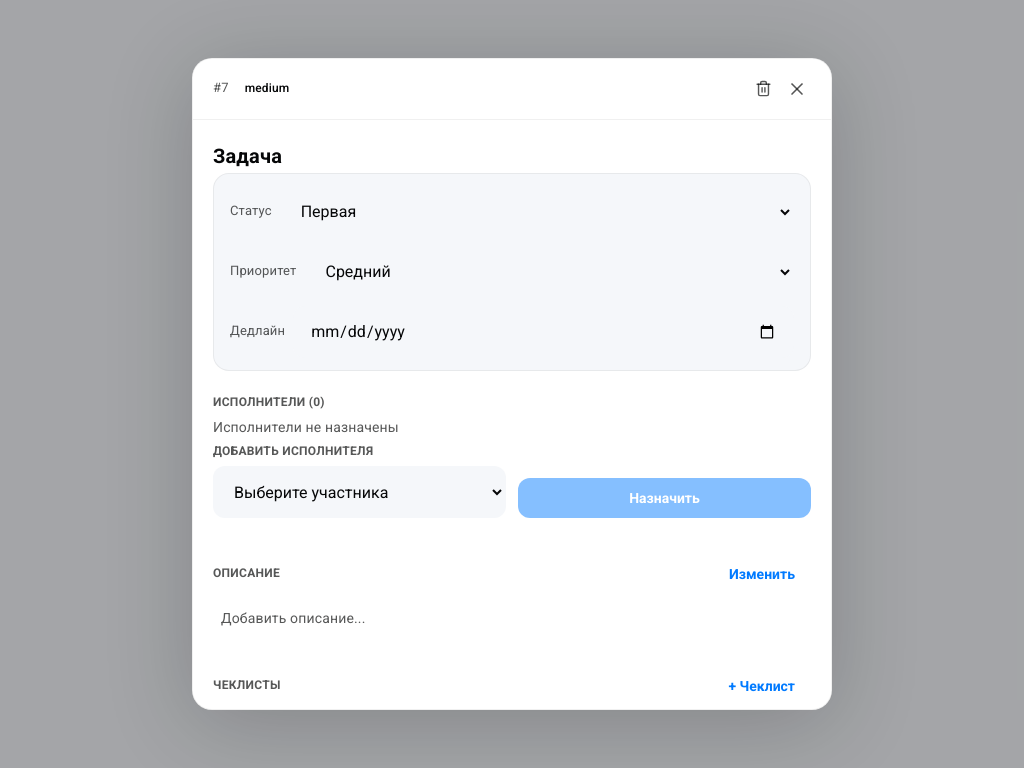
Test: TaskModal › назначает исполнителя
The width and height of the screenshot is (1024, 768).
Check: the heading "Задача" is shown, box 213,144 -> 282,168
Select "Исполнитель" in the dropdown labelled "Добавить исполнителя". click: point(360, 492)
box: 213,466 -> 506,518
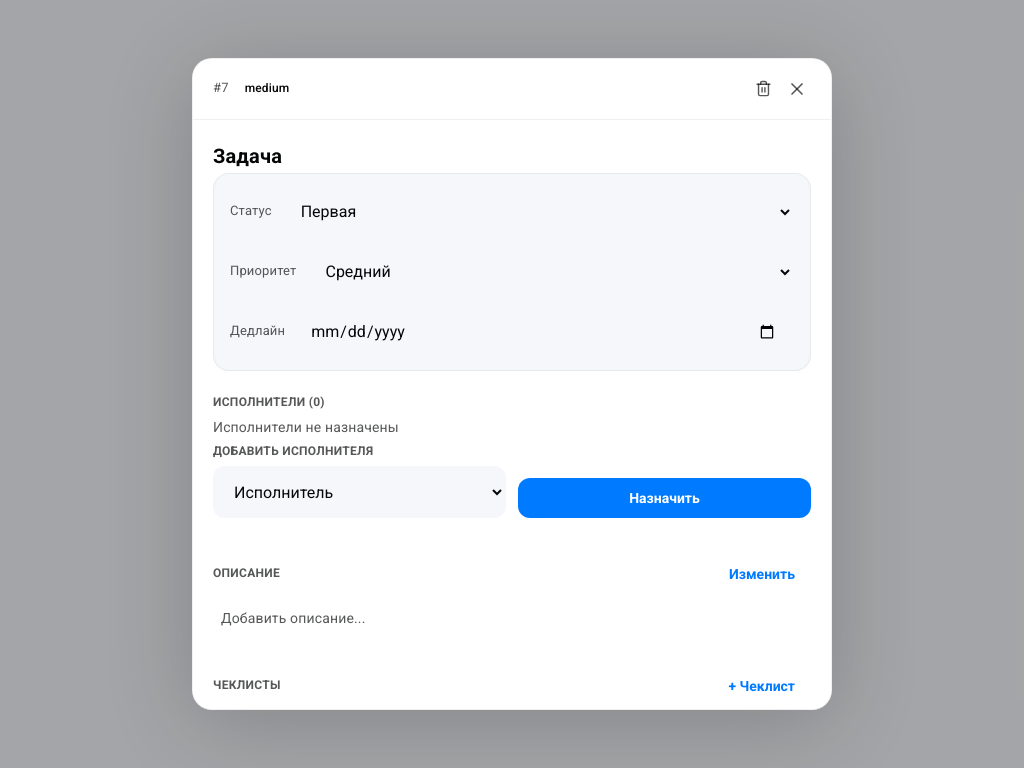
Click the button "Назначить". click: point(664, 498)
box: 518,478 -> 811,518
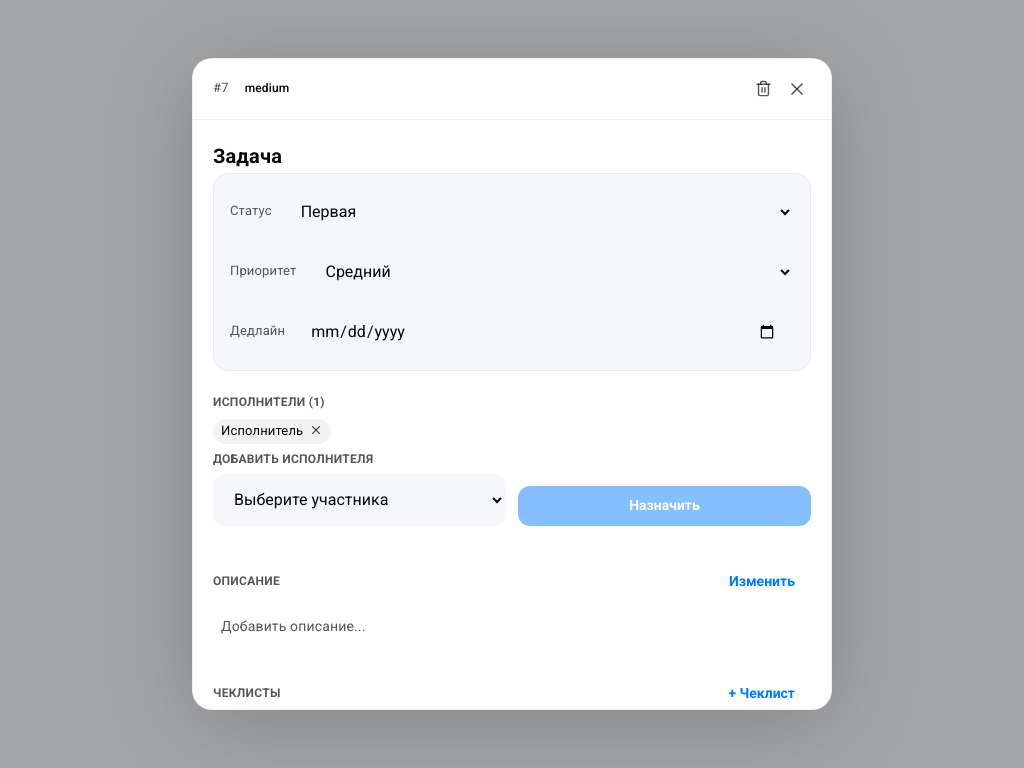
Check: the text "Исполнитель" is shown, box 213,418 -> 331,444
